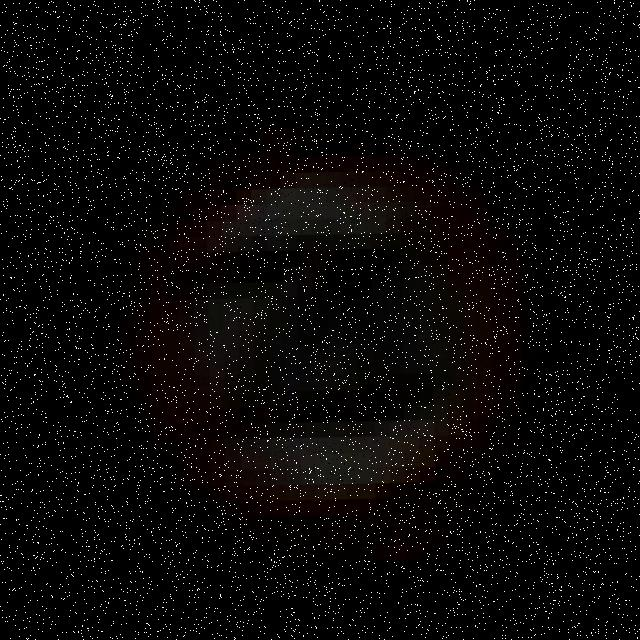Ograniczenie predkosci do 120: (111, 105, 558, 554)
